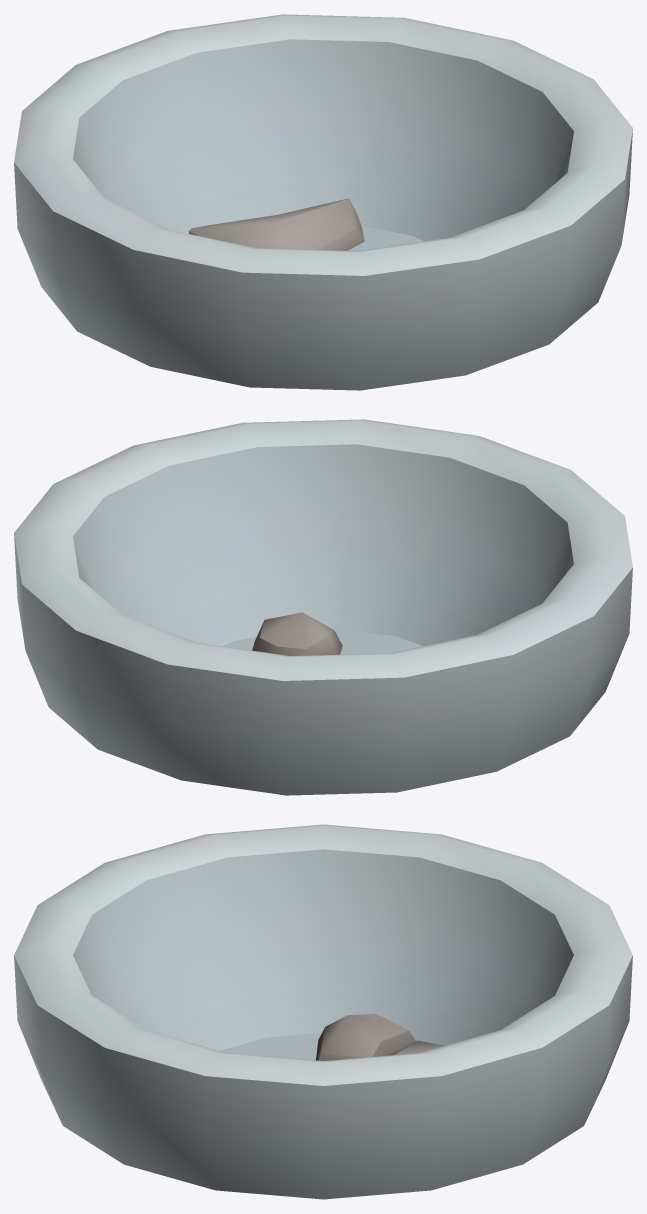
File: kaykit-restaurant-bits-bowl-dirty.glb
3 views of the same model, one above another, from view 1: azimuth 30°, elevation 25°; view 2: azimuth 150°, elevation 25°; view 3: azimuth 270°, elevation 25° (orthographic).
Parts seen in each view (by area): view 1: bowl_dirty; view 2: bowl_dirty; view 3: bowl_dirty.
Part boxes in pixels (x1=…): bowl_dirty: x1=14, y1=14, x2=632, y2=390; bowl_dirty: x1=14, y1=419, x2=632, y2=795; bowl_dirty: x1=14, y1=824, x2=632, y2=1199.
Size of the model in its own units: 0.95 by 0.3 by 0.95.
Materials: 1 (1 with a texture image).
